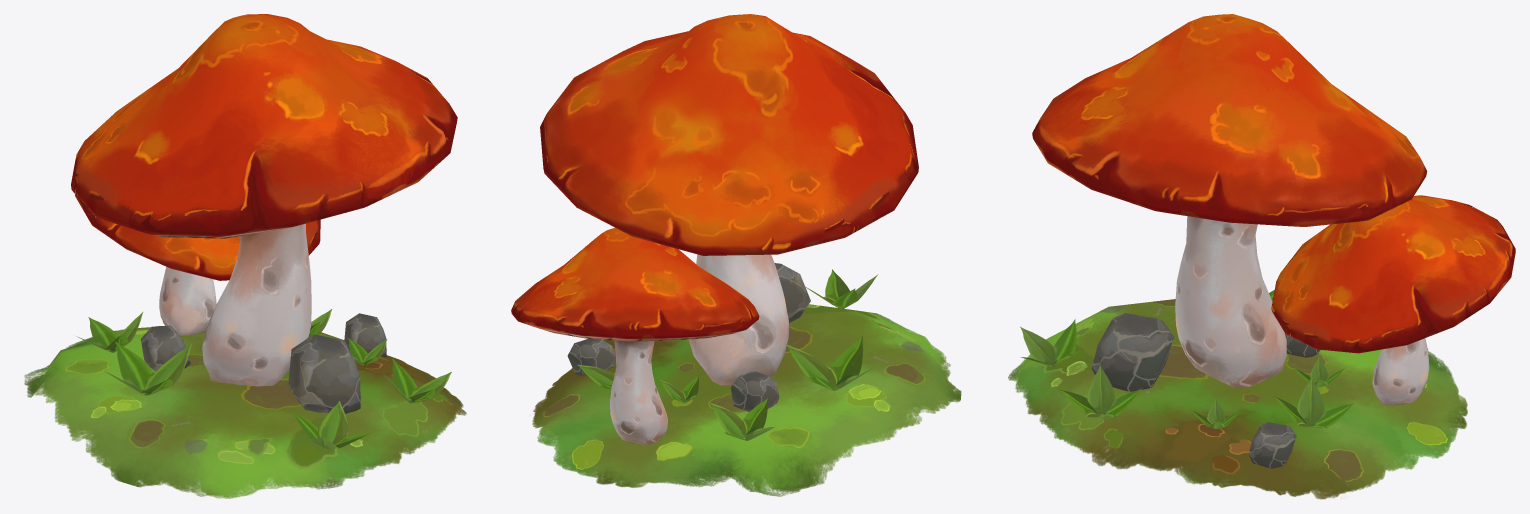
3 renders of one model, left to right at view 1: azimuth 30°, elevation 25°; view 2: azimuth 150°, elevation 25°; view 3: azimuth 270°, elevation 25°, orthographic. The views are drawn at different scales.
Visible parts, largest first — view 1: mushrooms; view 2: mushrooms; view 3: mushrooms.
Part boxes in pixels (left/top/right/bottom): mushrooms: left=24, top=14, right=466, bottom=498; mushrooms: left=511, top=14, right=961, bottom=496; mushrooms: left=1008, top=14, right=1515, bottom=499.
Size of the model in its own units: 2.56 by 2.6 by 3.07.
2 materials, 2 textured.
